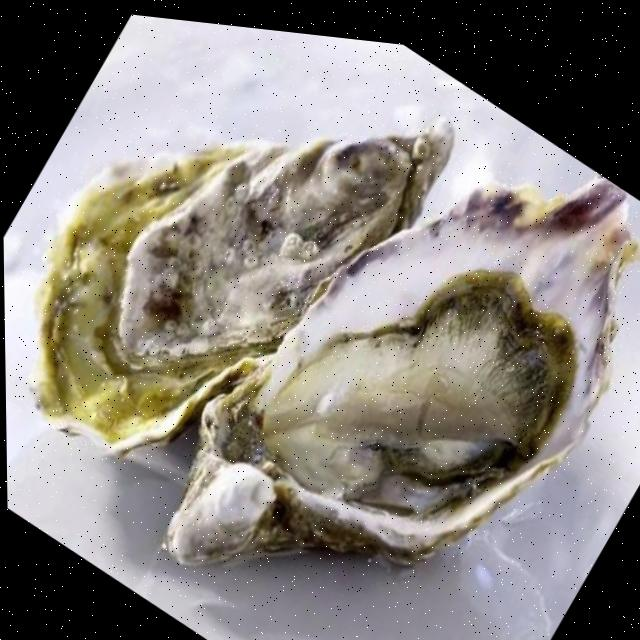Oyster-Indeterminate: (26, 118, 454, 458)
Oyster-Open: (160, 181, 640, 570)
